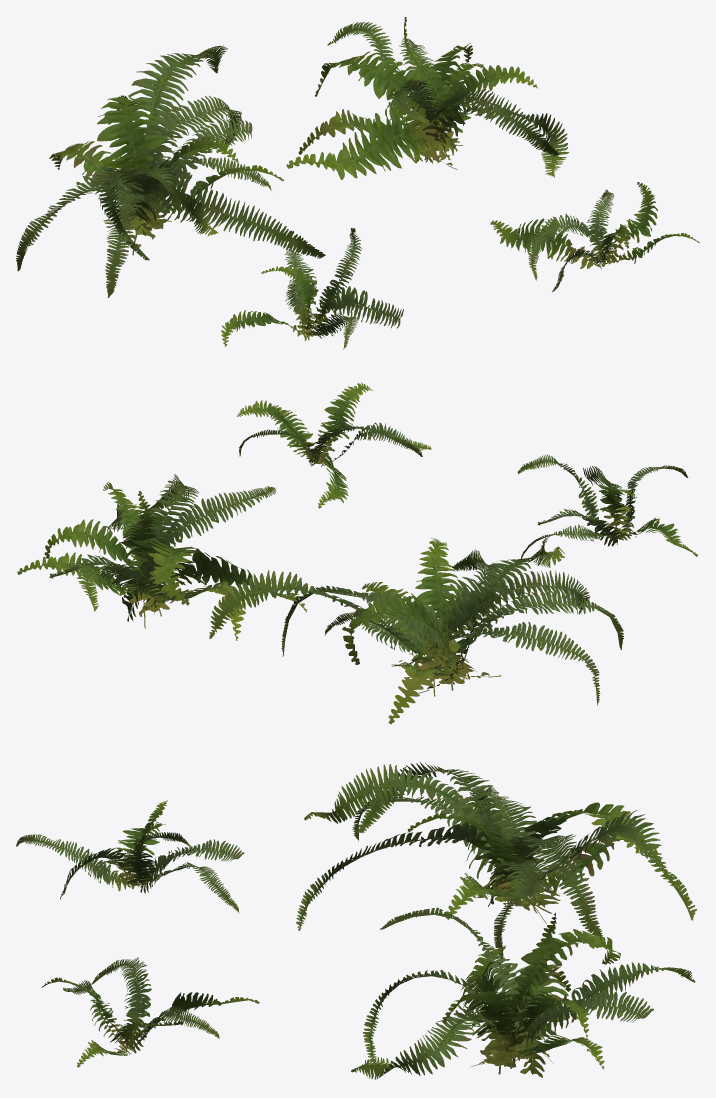
Rendered from fern_02.glb.
The picture shows the model from 3 angles, top to bottom: view 1: azimuth 30°, elevation 25°; view 2: azimuth 150°, elevation 25°; view 3: azimuth 270°, elevation 25°; orthographic projection. The views are drawn at different scales.
Parts seen in each view (by area): view 1: fern_02_b, fern_02_c, fern_02_a, fern_02_d; view 2: fern_02_b, fern_02_c, fern_02_d, fern_02_a; view 3: fern_02_b, fern_02_c, fern_02_a, fern_02_d.
Part boxes in pixels (x1,y1,x2,y2): fern_02_b: (16, 45, 325, 297); fern_02_c: (286, 17, 568, 179); fern_02_a: (221, 228, 403, 349); fern_02_d: (490, 182, 699, 292); fern_02_b: (209, 537, 623, 724); fern_02_c: (17, 474, 306, 640); fern_02_d: (237, 382, 431, 508); fern_02_a: (517, 454, 697, 558); fern_02_b: (296, 762, 696, 958); fern_02_c: (351, 907, 695, 1079); fern_02_a: (16, 800, 244, 912); fern_02_d: (41, 957, 259, 1067).
Size of the model in its own units: 1.81 by 0.4686 by 1.81.
1 material, 1 textured.
